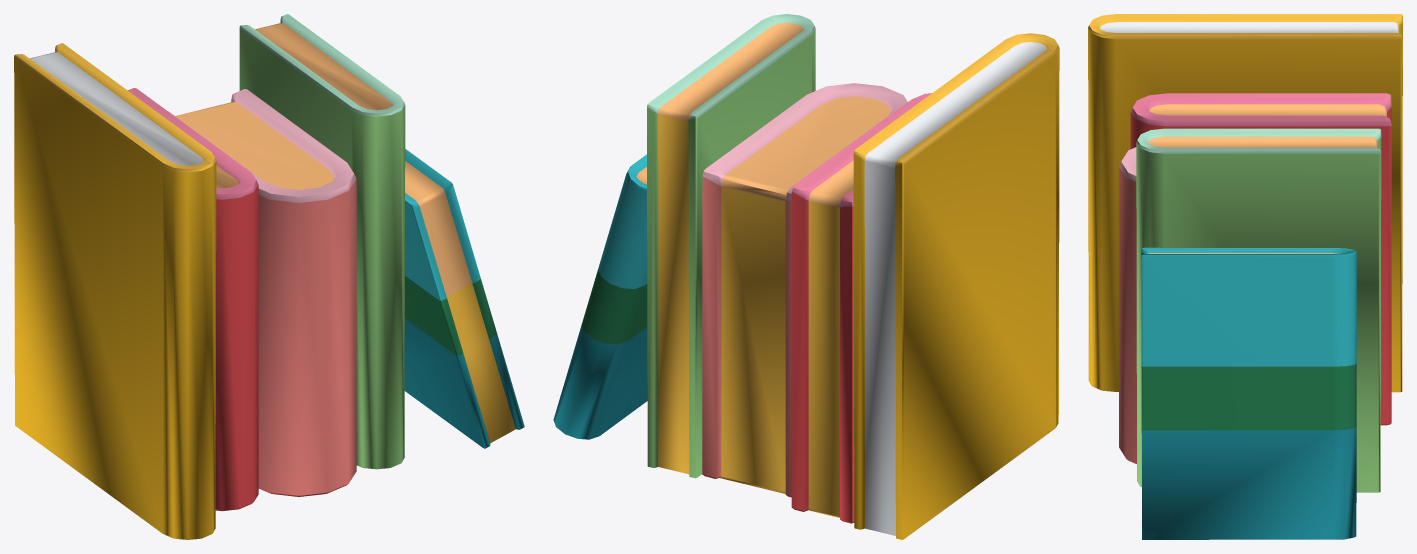
File: livros_em_pe_xadrez_pacote.glb
3 renders of one model, left to right at view 1: azimuth 30°, elevation 25°; view 2: azimuth 150°, elevation 25°; view 3: azimuth 270°, elevation 25°, orthographic. The views are drawn at different scales.
Parts seen in each view (by area): view 1: livros_em_pe_xadrez_pacote; view 2: livros_em_pe_xadrez_pacote; view 3: livros_em_pe_xadrez_pacote.
Boxes of the visible parts, left/top/right/bottom form: livros_em_pe_xadrez_pacote: left=14, top=14, right=524, bottom=539; livros_em_pe_xadrez_pacote: left=553, top=14, right=1059, bottom=539; livros_em_pe_xadrez_pacote: left=1088, top=14, right=1402, bottom=539.
Size of the model in its own units: 0.3374 by 0.3227 by 0.2543.
1 material, 1 textured.
